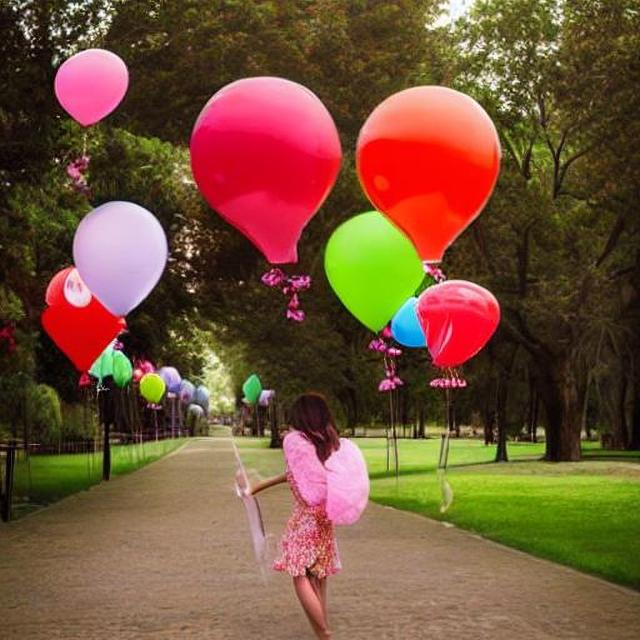balloon: (235, 74, 498, 386), (181, 72, 341, 289), (66, 194, 177, 319), (26, 260, 130, 383), (409, 276, 499, 369), (134, 350, 215, 430), (51, 46, 129, 124)
floating object: (259, 424, 367, 581)
